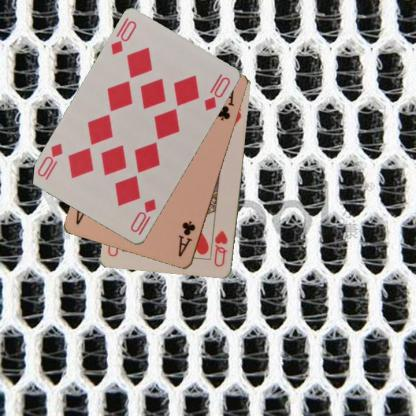10d: (108, 18, 138, 57), (128, 196, 158, 234)
Ac: (176, 218, 197, 258)
Qh: (211, 228, 230, 269)
